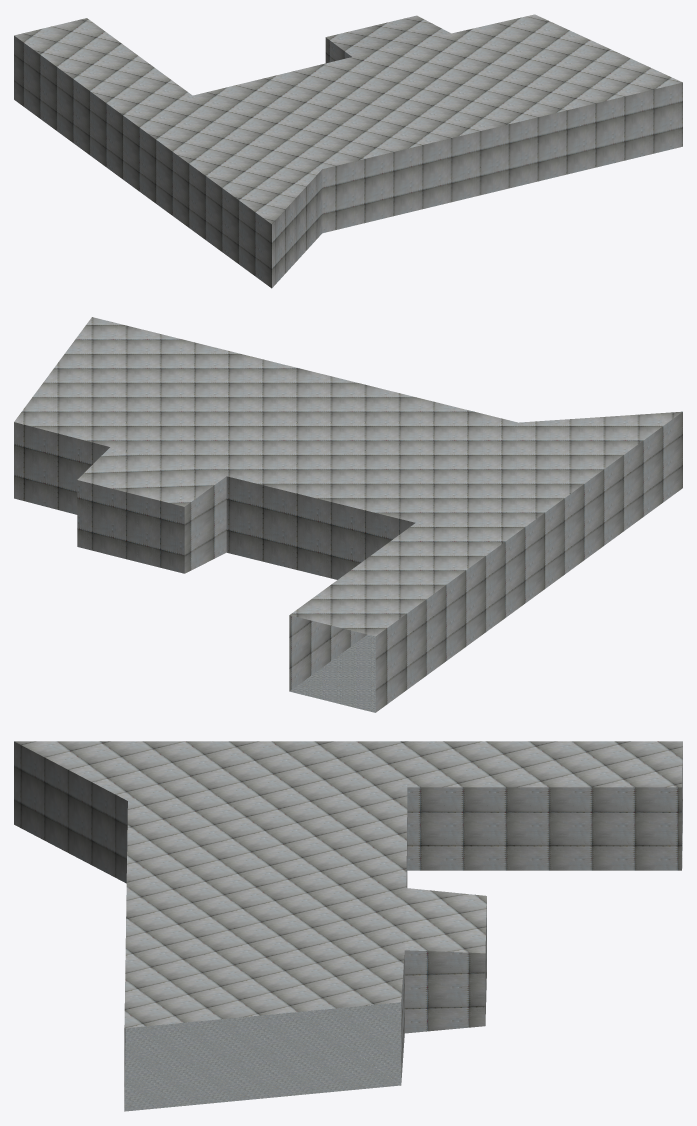
The model's file is south1.FBX.
3 views of the same model, one above another, from view 1: azimuth 30°, elevation 25°; view 2: azimuth 150°, elevation 25°; view 3: azimuth 270°, elevation 25° (orthographic). The views are drawn at different scales.
Parts seen in each view (by area): view 1: Object002; view 2: Object002; view 3: Object002.
Part boxes in pixels (x1,y1,x2,y2): Object002: (14,14,682,288); Object002: (14,317,682,712); Object002: (14,741,682,1111).
Size of the model in its own units: 548 by 74.12 by 540.
2 materials, 2 textured.
